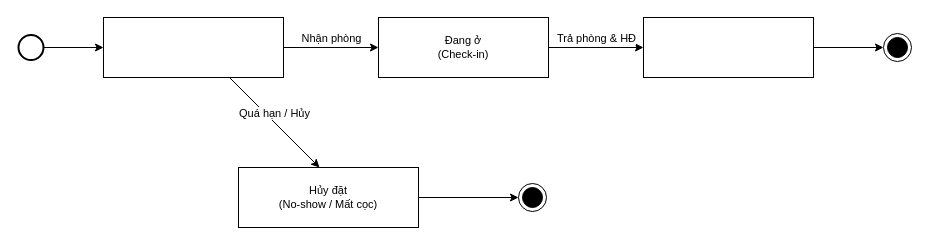
The diagram is 929 pixels wide and 245 high, and some of its shapes have lost their labels. Each missing label, with the centre of its shape:
"Chờ nhận phòng (Đã đặt cọc)" belongs at pixel 193 47.
"Đã trả phòng (Check-out)" belongs at pixel 728 47.
